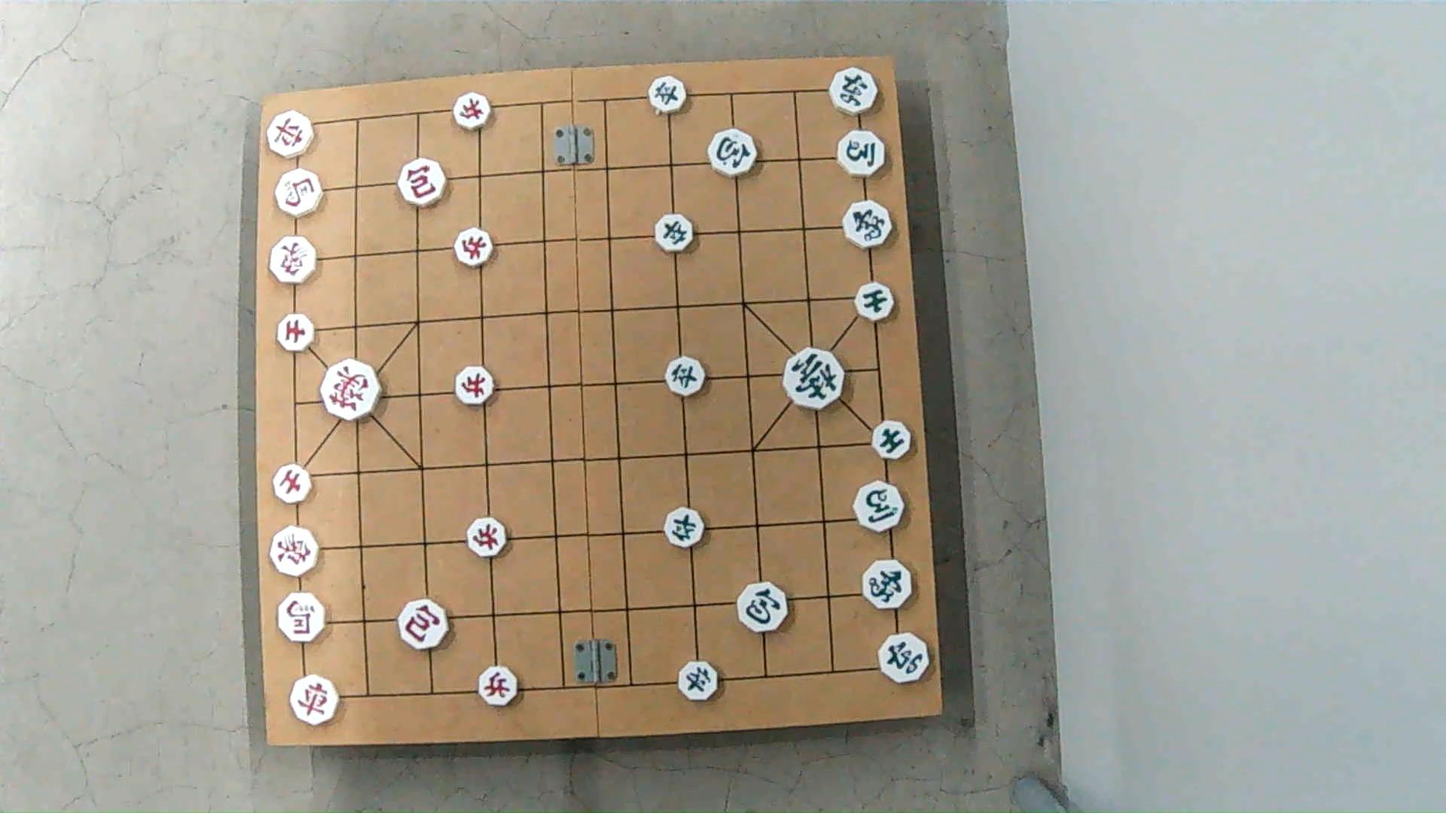cha_green: (877, 635, 929, 684), (827, 71, 879, 114)
cha_red: (291, 678, 342, 724), (267, 112, 316, 156)
jol_green: (664, 505, 706, 547), (653, 216, 698, 255), (676, 664, 720, 702), (667, 358, 709, 394), (647, 78, 688, 113)
jol_red: (477, 668, 519, 705), (465, 520, 507, 556), (453, 371, 496, 406), (453, 94, 495, 128), (453, 230, 495, 264)
ma_green: (853, 484, 906, 529), (837, 132, 889, 176)
ma_red: (279, 595, 327, 642), (273, 172, 322, 215)
po_green: (737, 581, 791, 630), (708, 131, 759, 178)
po_red: (395, 601, 447, 647), (397, 163, 449, 206)
sa_green: (856, 279, 895, 321), (873, 423, 916, 458)
sa_red: (276, 309, 316, 353), (272, 464, 312, 505)
sang_green: (862, 558, 914, 611), (841, 199, 892, 251)
sang_red: (270, 525, 321, 577), (270, 239, 321, 285)
wang_green: (782, 350, 846, 407)
wang_red: (321, 360, 382, 420)
